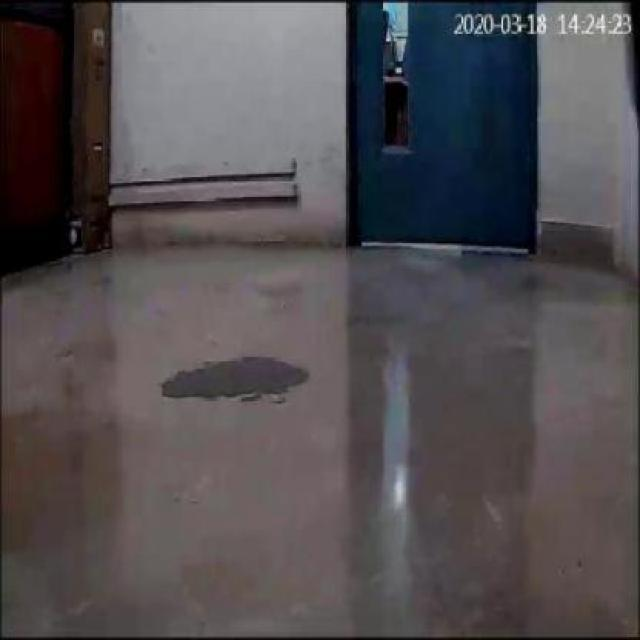spillage: (156, 354, 310, 402)
